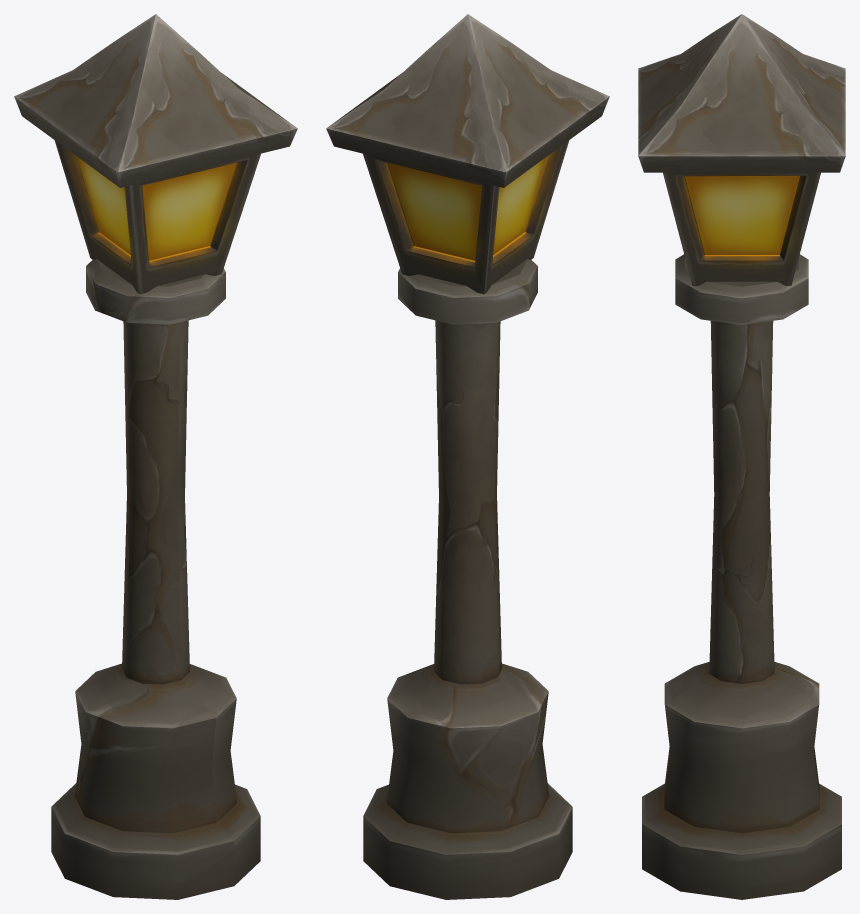
Rendered from Lamppost.FBX.
3 views of the same model, side by side, from view 1: azimuth 30°, elevation 25°; view 2: azimuth 150°, elevation 25°; view 3: azimuth 270°, elevation 25° (orthographic).
Visible parts, largest first — view 1: Lamppost; view 2: Lamppost; view 3: Lamppost.
Boxes of the visible parts, left/top/right/bottom form: Lamppost: left=14, top=14, right=297, bottom=899; Lamppost: left=326, top=14, right=609, bottom=899; Lamppost: left=638, top=14, right=845, bottom=899.
Size of what is drawn, in the model's own units: 116 by 114 by 512.
